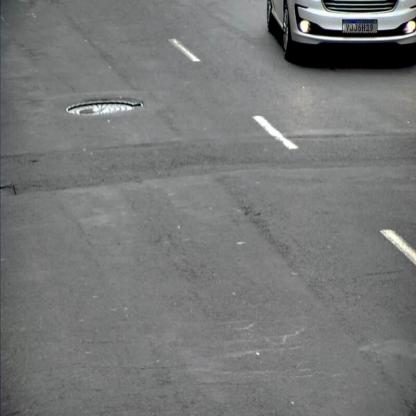PlacaM: (342, 20, 378, 34)
